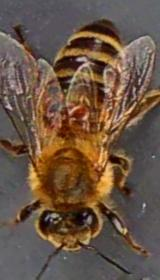varroa_mite: (65, 98, 92, 125)
